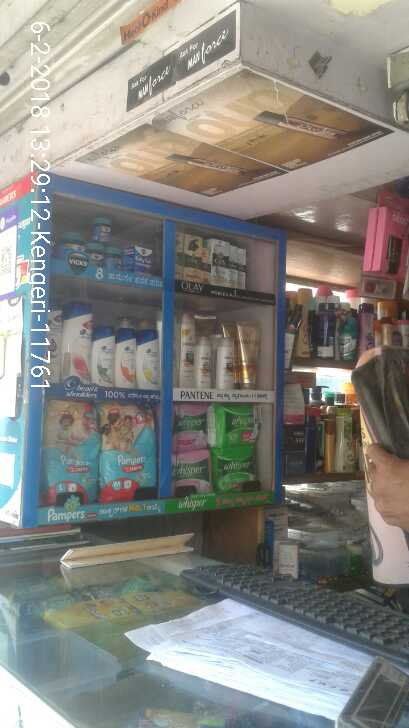beauty: (170, 228, 264, 292), (61, 297, 92, 386), (173, 308, 197, 390), (110, 328, 138, 392), (137, 325, 161, 388), (191, 332, 215, 395), (92, 325, 114, 392), (219, 340, 238, 394)
pharmacy: (99, 396, 159, 499), (44, 397, 96, 506), (202, 402, 266, 444), (85, 240, 158, 276), (210, 443, 264, 490), (171, 395, 209, 451), (169, 452, 204, 496), (54, 220, 87, 265), (89, 211, 110, 235)
